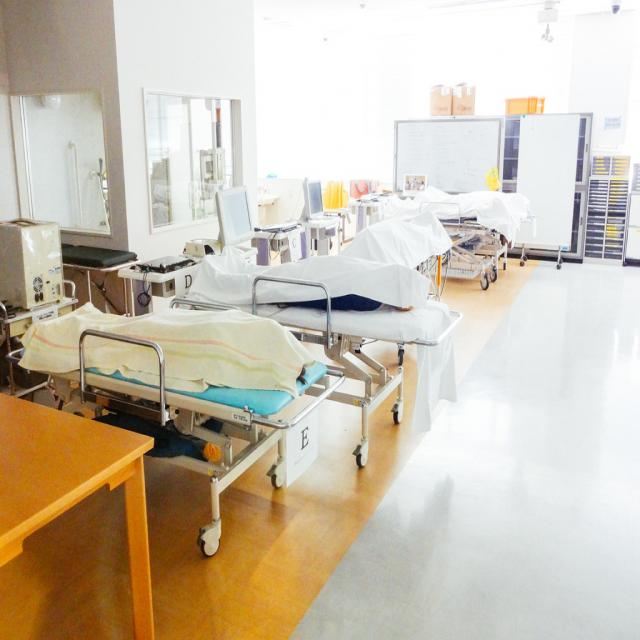desk: (0, 389, 152, 639)
